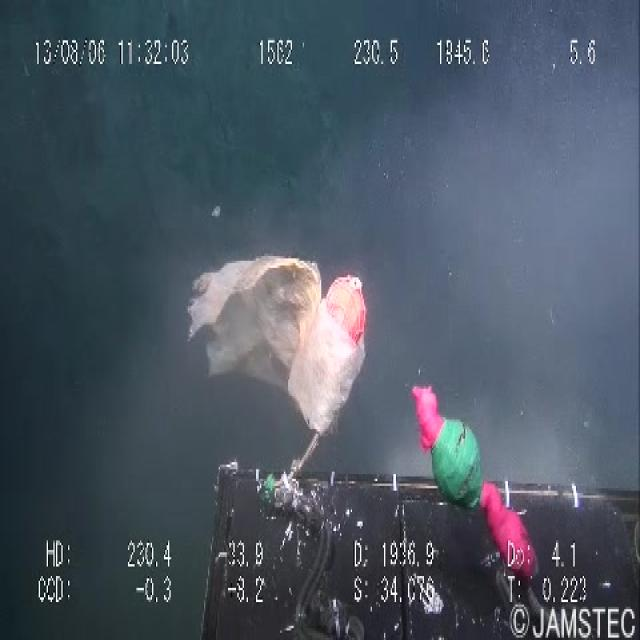plastic: (171, 225, 376, 434)
